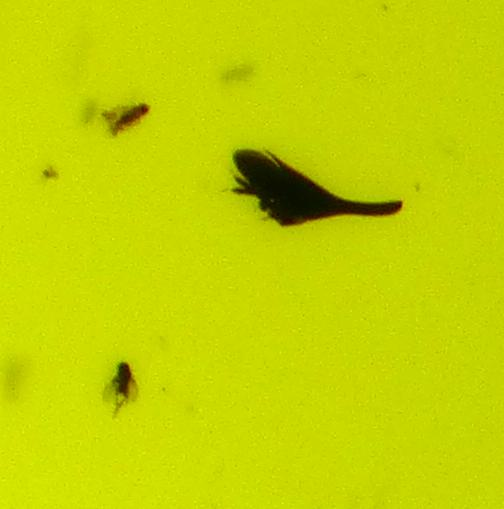Brachycera: (103, 357, 138, 409)
Hemiptera: (228, 144, 404, 230), (100, 100, 151, 139)
